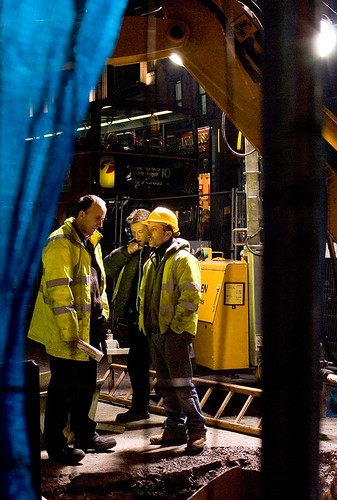person hardhat: (144, 206, 221, 455)
